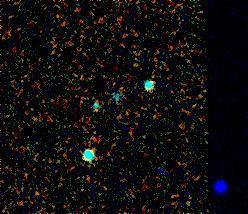star: (142, 159, 172, 189)
